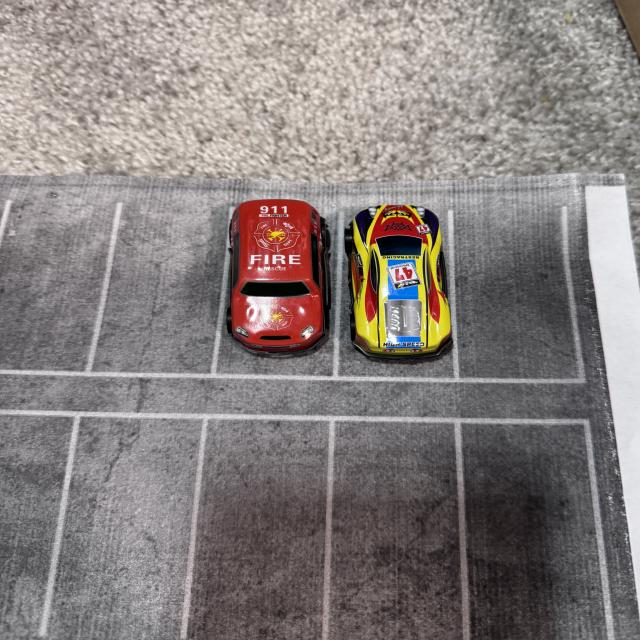car: (334, 172, 480, 401), (202, 184, 336, 357)
